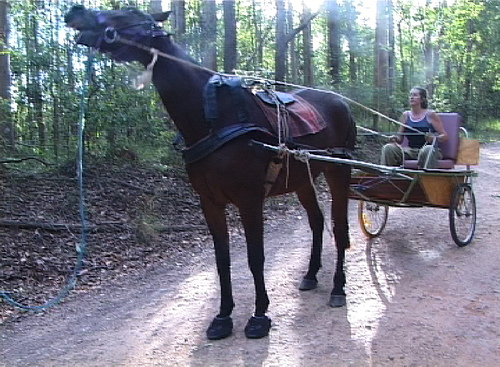horse: (61, 1, 358, 348)
